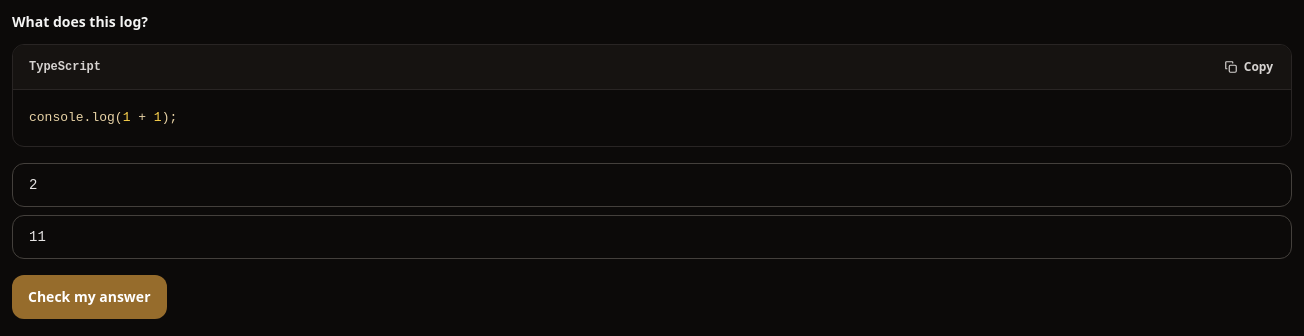
it: PredictOutputComponent › asks for an answer before checking and reveals nothing
Click the button "Check my answer" at (89, 297), box [12, 275, 166, 319]
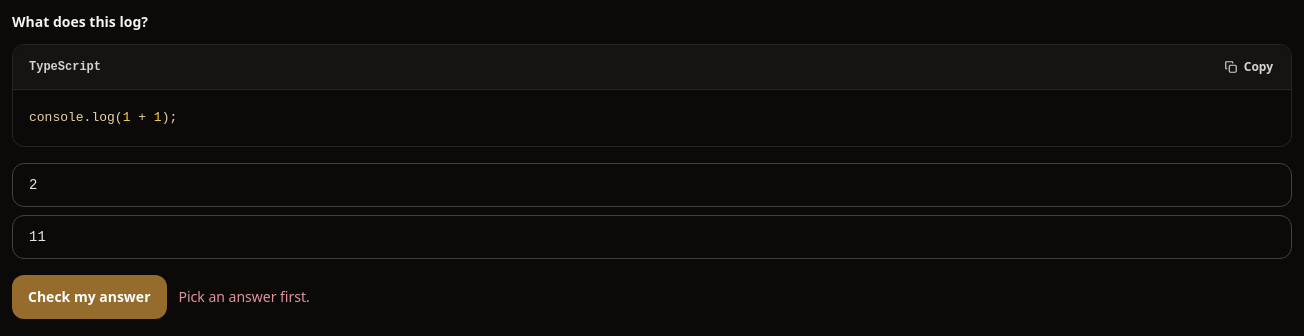
expect the message with test id "predict-error" reads "Pick an answer first.": met, box [178, 287, 310, 306]
